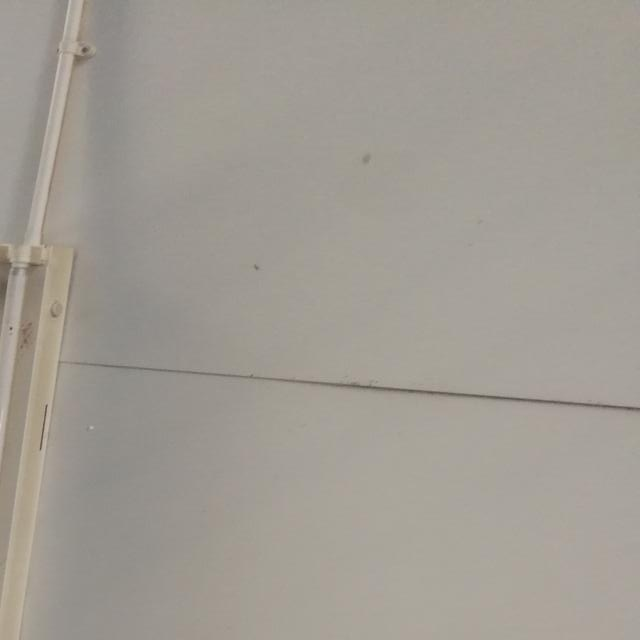fluorescent tube: (0, 235, 98, 640)
